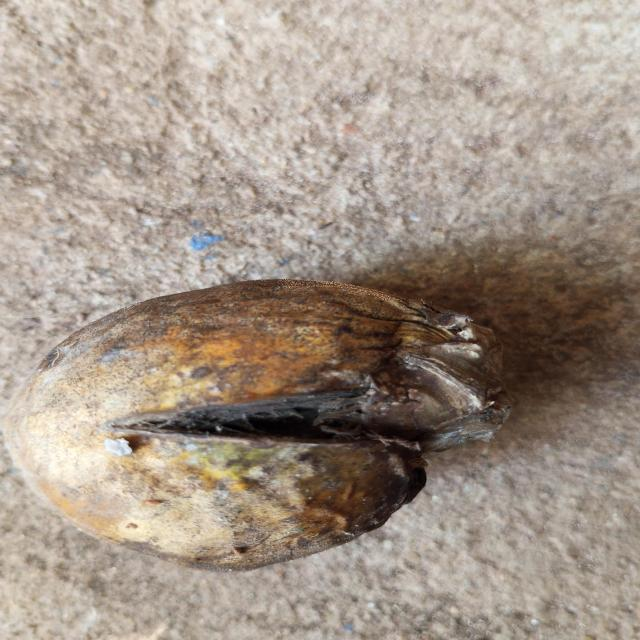damaged: (17, 279, 510, 572)
